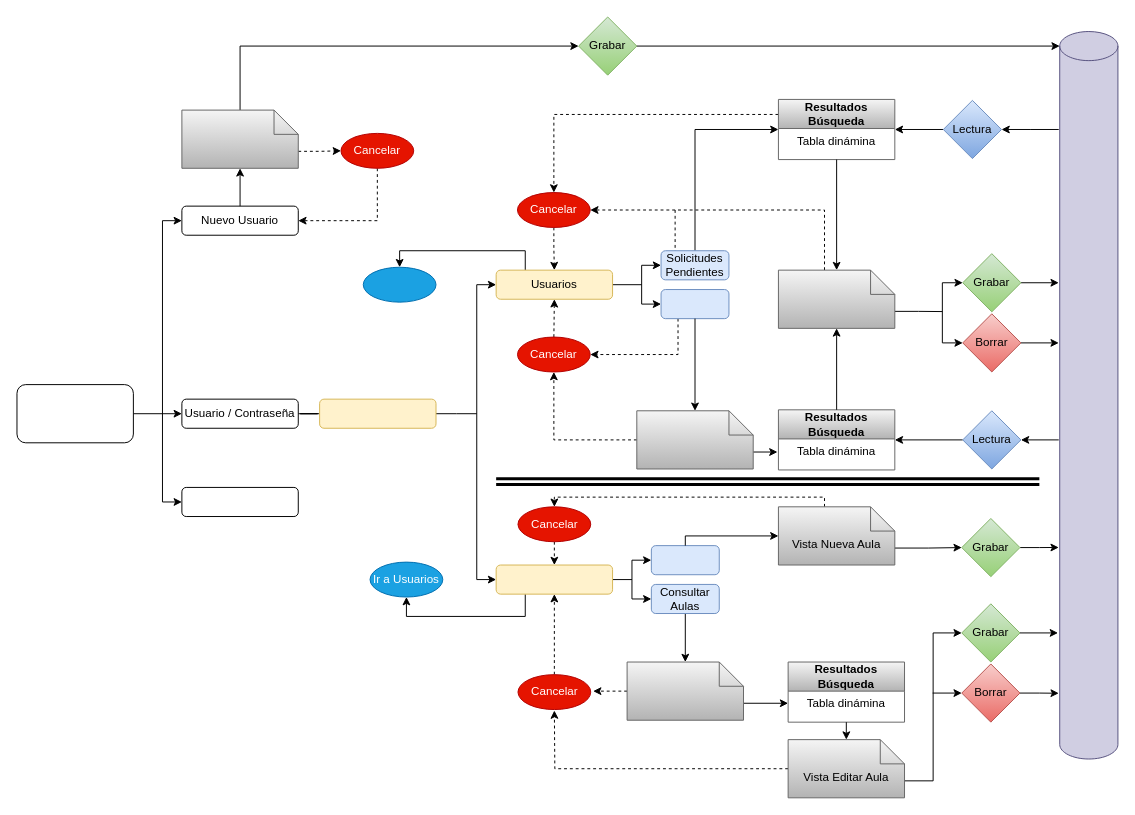
Image size: 1135x815. Some labels were removed from this diagram. The shapes that lost their labels are listed below. From the top down, each one's box as (x1, y1, x2, y2) in pixels, then its label:
(181, 109, 298, 168): Vista registro Usuario
(362, 266, 436, 302): Ir a Aulas
(660, 289, 729, 319): Consultar Usuarios
(777, 269, 895, 328): Vista Editar Usuario
(16, 384, 133, 443): Ventana LOGIN
(319, 398, 436, 428): Administrador
(1059, 31, 1118, 759): BD
(636, 410, 753, 469): Vista Búsqueda Usuarios
(181, 486, 298, 517): ¿Ha olvidado su contraseña?
(495, 564, 613, 594): Aulas
(650, 545, 719, 575): Nueva Aula
(626, 661, 744, 720): Vista Búsqueda Aulas
